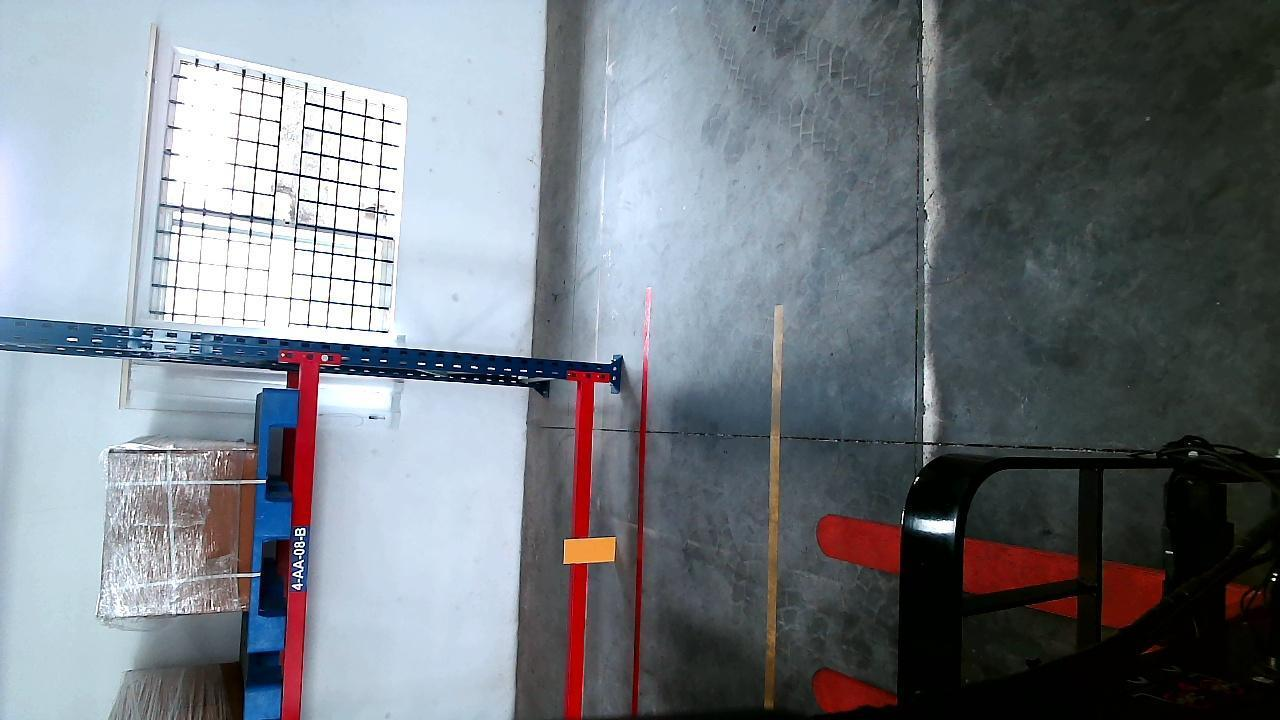h_rack: (281, 362, 318, 713), (566, 383, 595, 719)
orange_strip: (564, 536, 616, 566)
red_line: (631, 287, 653, 718)
small_pallet: (251, 387, 299, 656)
yellow_line: (763, 306, 786, 711)
